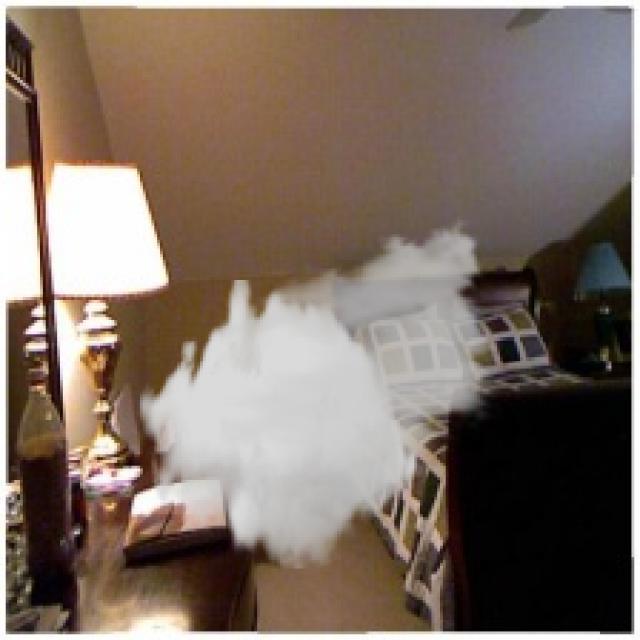Smoke: (137, 212, 503, 568)
